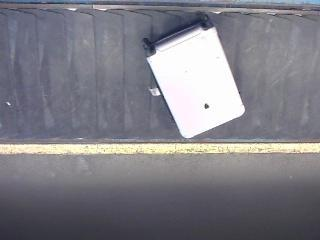Suitcase: (144, 15, 245, 138)
